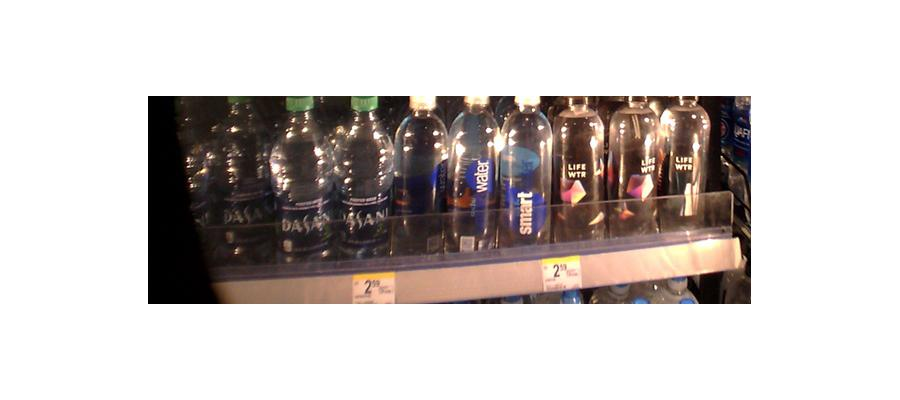bottle: (194, 98, 276, 271), (272, 94, 330, 264), (333, 92, 389, 260), (389, 93, 445, 256), (444, 93, 499, 254), (500, 94, 552, 246), (555, 97, 606, 243), (608, 97, 658, 235), (660, 98, 710, 225)
